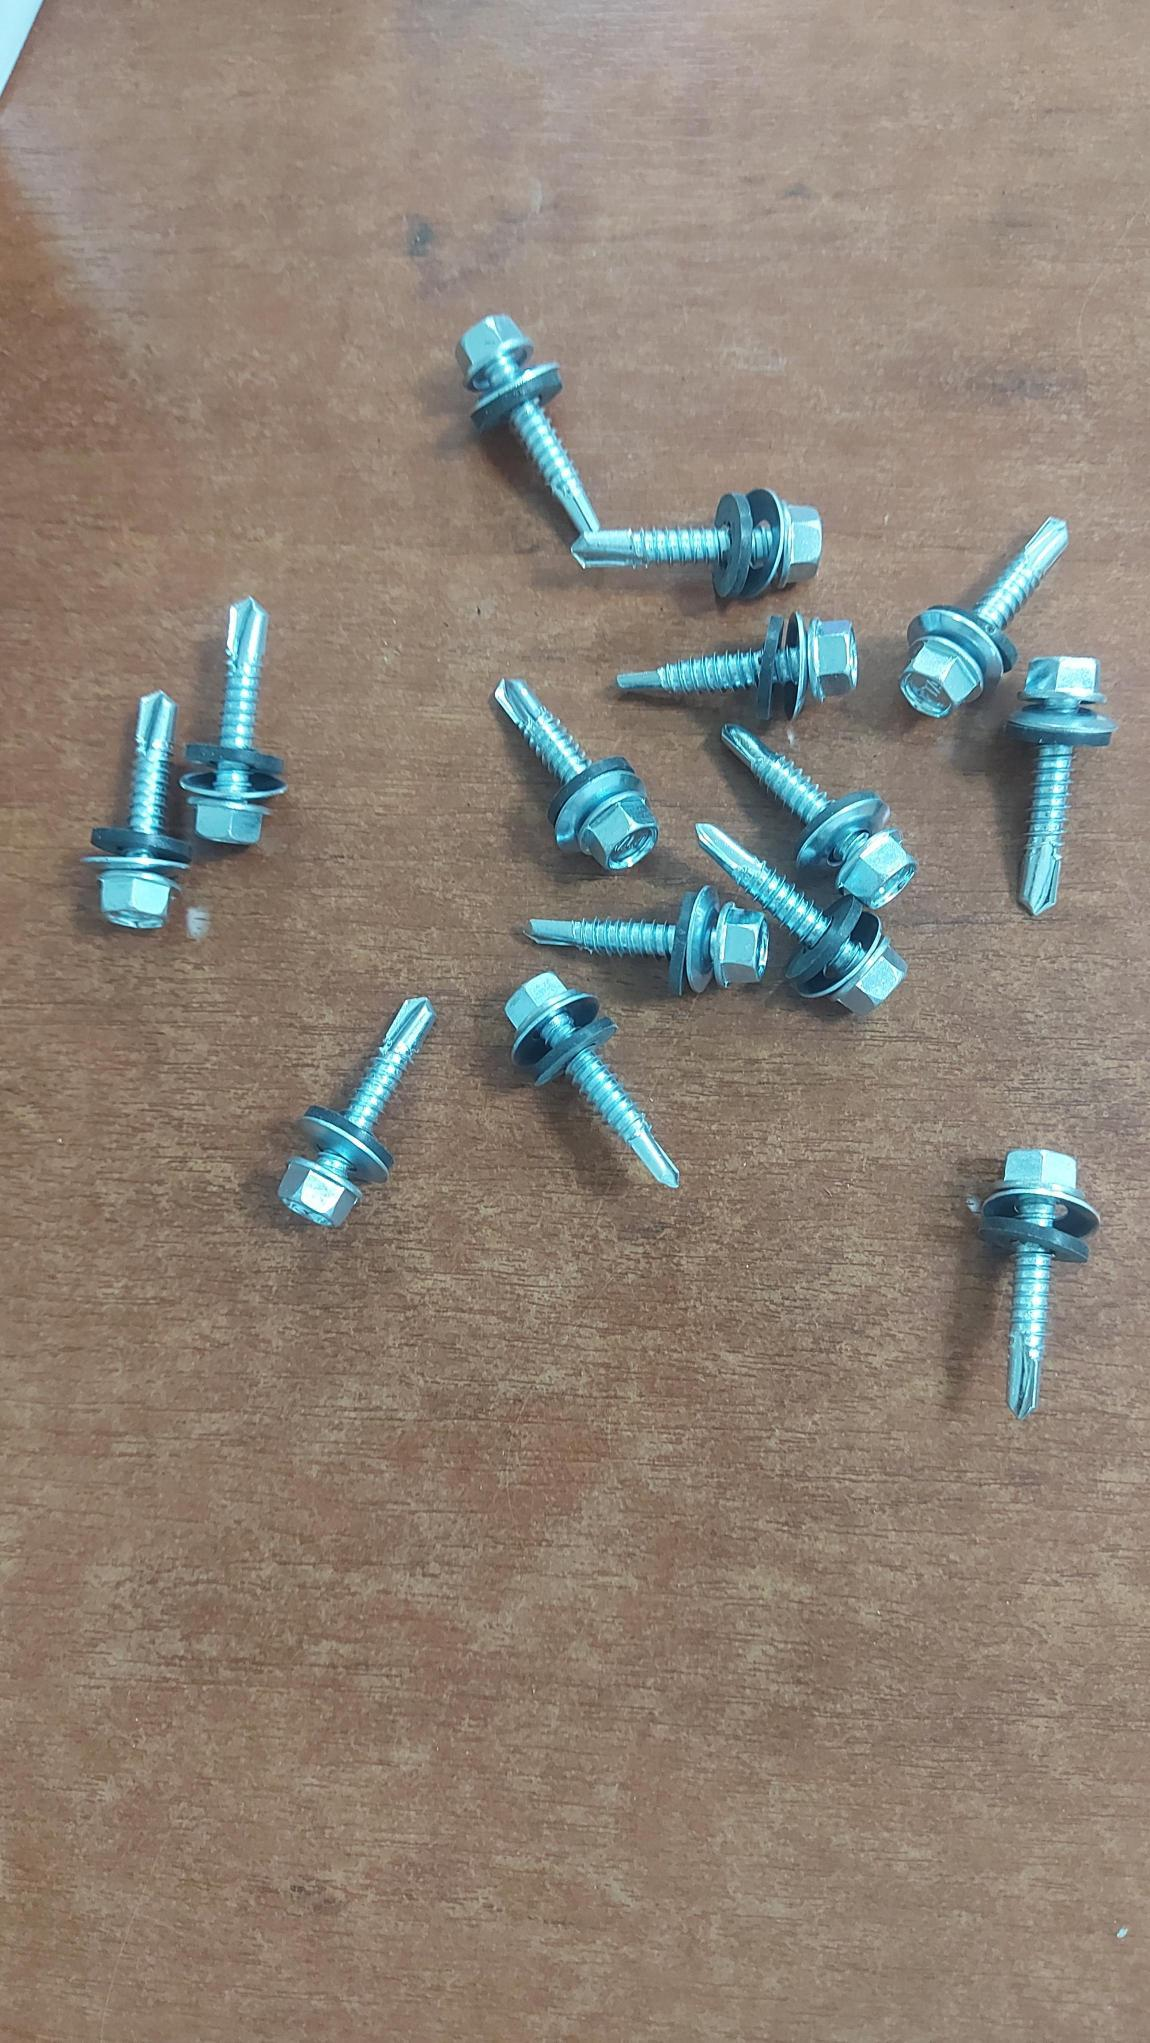Screw: (696, 825, 905, 1014), (505, 972, 676, 1187), (722, 725, 916, 908), (279, 998, 433, 1226), (900, 518, 1067, 717), (980, 1151, 1098, 1417), (494, 679, 656, 870), (457, 314, 597, 533), (1007, 657, 1115, 915), (572, 488, 820, 599), (527, 885, 769, 995), (617, 612, 855, 721), (181, 598, 285, 845), (86, 690, 189, 929)
